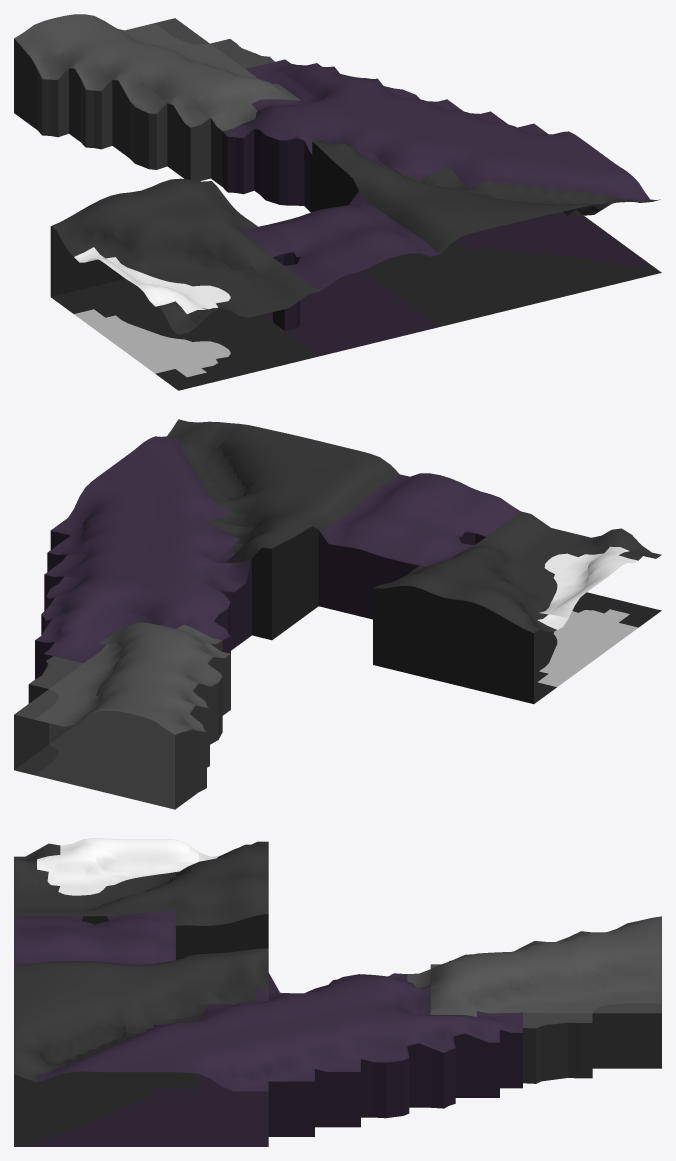
The model's file is delbld-hull-302.glb.
The picture shows the model from 3 angles, top to bottom: view 1: azimuth 30°, elevation 25°; view 2: azimuth 150°, elevation 25°; view 3: azimuth 270°, elevation 25°; orthographic projection.
Parts seen in each view (by area): view 1: delbld-hull-302; view 2: delbld-hull-302; view 3: delbld-hull-302.
Boxes of the visible parts, x1,y1,x2,y2 form: delbld-hull-302: (14, 14, 661, 390); delbld-hull-302: (14, 419, 661, 809); delbld-hull-302: (14, 838, 661, 1146).
Bounding box in the file's own units: 2 × 0.3673 × 2.33.
Materials: 6 (6 with a texture image).
